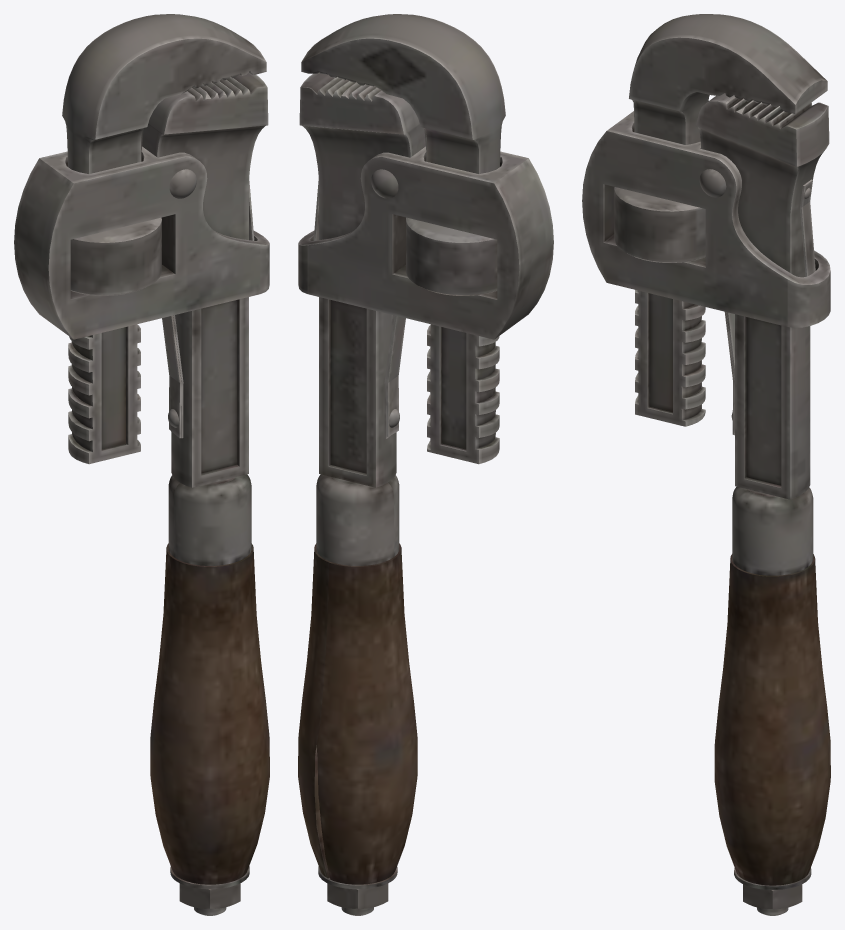
File: adjustable-wrench.glb
3 renders of one model, left to right at view 1: azimuth 30°, elevation 25°; view 2: azimuth 150°, elevation 25°; view 3: azimuth 330°, elevation 25°, orthographic. The views are drawn at different scales.
Parts seen in each view (by area): view 1: adjustable_wrench_jaw; view 2: adjustable_wrench_jaw; view 3: adjustable_wrench_jaw.
Part boxes in pixels (x1=…): adjustable_wrench_jaw: x1=14, y1=14, x2=269, y2=915; adjustable_wrench_jaw: x1=298, y1=14, x2=553, y2=915; adjustable_wrench_jaw: x1=582, y1=14, x2=830, y2=915.
Size of the model in its own units: 0.0684 by 0.2541 by 0.0306.
1 material, 1 textured.
